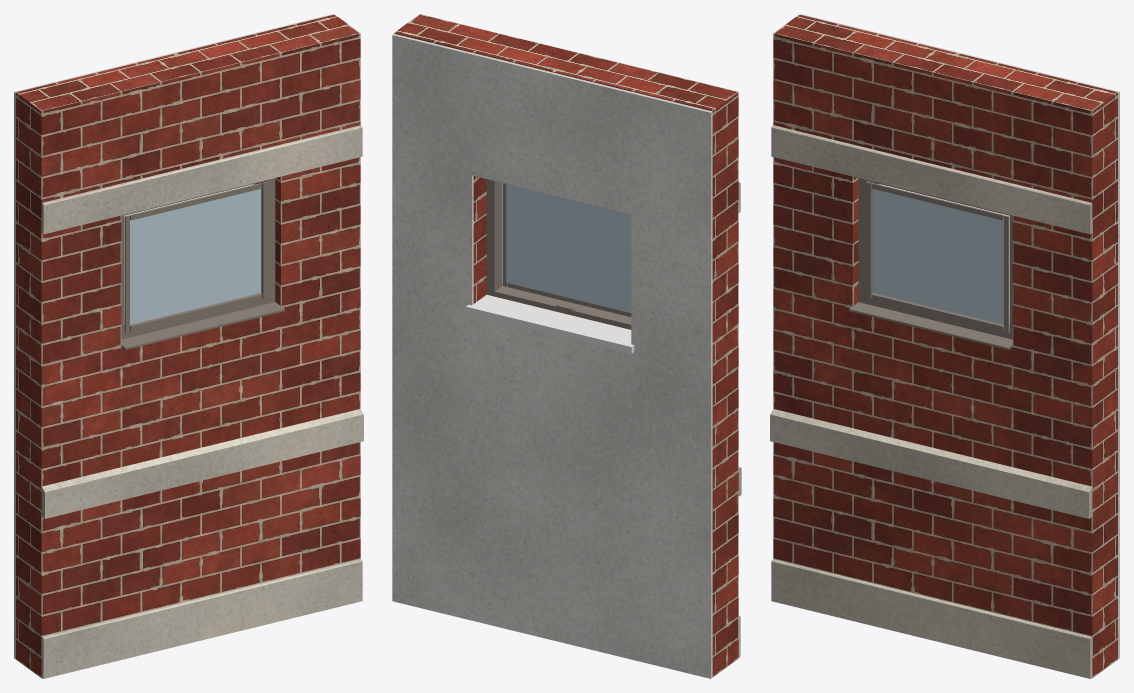
3 views of the same model, side by side, from view 1: azimuth 30°, elevation 25°; view 2: azimuth 150°, elevation 25°; view 3: azimuth 330°, elevation 25° (orthographic).
Visible parts, largest first — view 1: w_u_wc_brick, w_u_wc_precast, w_u_wc_glass, w_u_wc_alu, w_u_wc_plaster; view 2: w_u_wc_plaster, w_u_wc_brick, w_u_wc_glass, w_u_wc_alu, w_u_wc_trim; view 3: w_u_wc_brick, w_u_wc_precast, w_u_wc_glass, w_u_wc_alu, w_u_wc_plaster.
Boxes of the visible parts, x1,y1,x2,y2 form: w_u_wc_brick: (16, 14, 360, 677); w_u_wc_precast: (41, 125, 363, 678); w_u_wc_glass: (130, 189, 261, 324); w_u_wc_alu: (121, 178, 284, 349); w_u_wc_plaster: (14, 14, 333, 659); w_u_wc_plaster: (392, 33, 712, 678); w_u_wc_brick: (394, 14, 738, 677); w_u_wc_glass: (506, 184, 631, 312); w_u_wc_alu: (486, 179, 631, 329); w_u_wc_trim: (466, 294, 634, 353); w_u_wc_brick: (773, 14, 1117, 677); w_u_wc_precast: (770, 125, 1092, 678); w_u_wc_glass: (872, 189, 1003, 324); w_u_wc_alu: (849, 178, 1012, 349); w_u_wc_plaster: (800, 14, 1119, 659).
Size of the model in its own units: 2 by 3.4 by 0.375.
6 materials, 3 textured.
